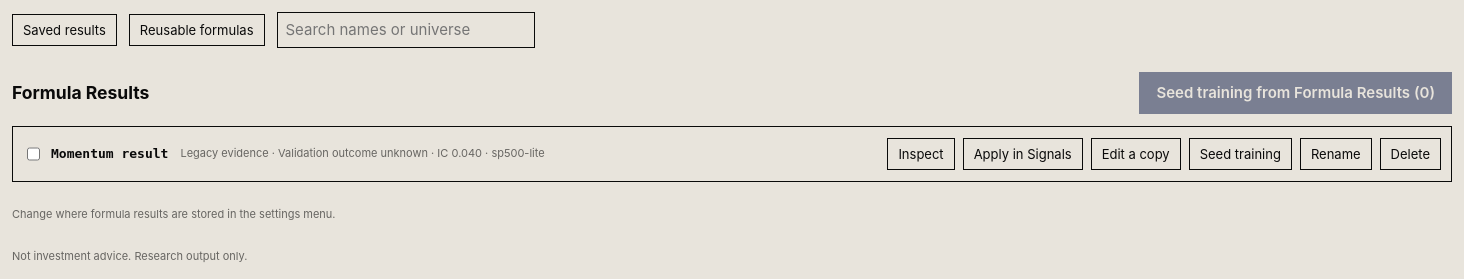
Scenario: LibraryPanel terminology › retries a failed reusable formula load without showing an empty library
This screenshot has width=1464, height=279.
Expected: the text "Momentum result" is shown, [51,144,168,164]
What coordinates should you click on to do the following:
click the button "Reusable formulas"
I would click on:
 (197, 30)
Its box is [129,14,264,46].
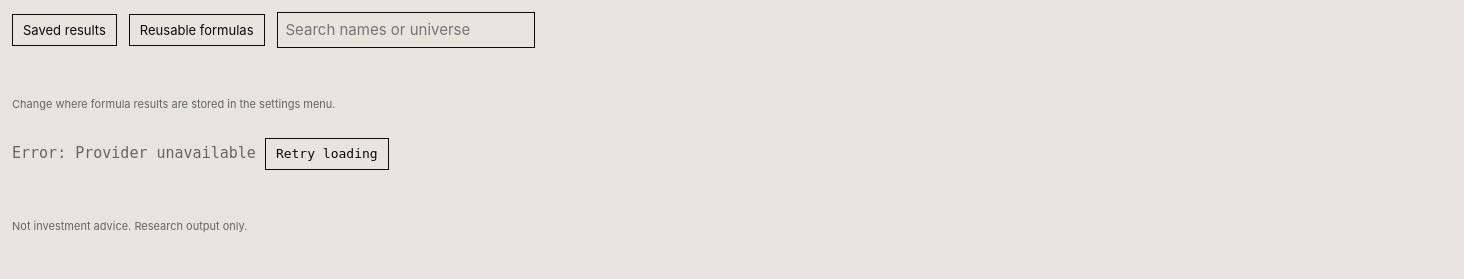
Expected: the message shows "Provider unavailable", [12,144,256,162]
What coordinates should you click on to do the following:
click the button "Retry loading"
I would click on:
 (327, 154)
Its box is [265,138,389,170].
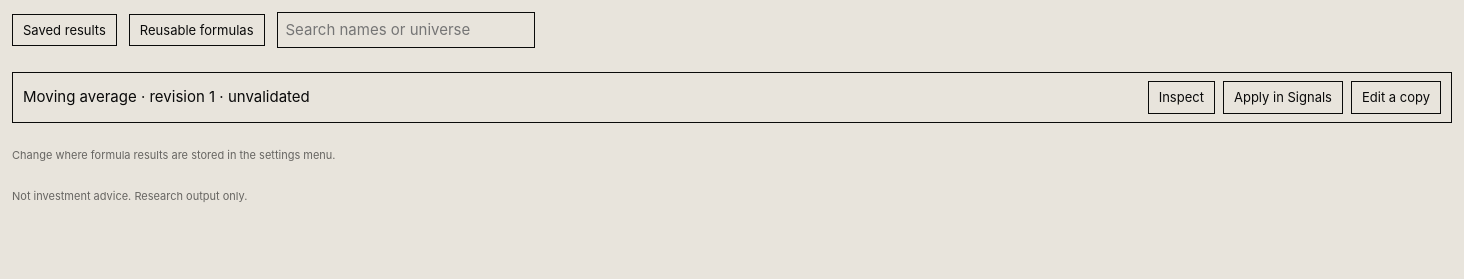
Expected: the text "Moving average · revision 1 · unvalidated" is shown, [23,85,310,109]
Expected: the message "Error: Provider unavailable Retry loading" is gone
